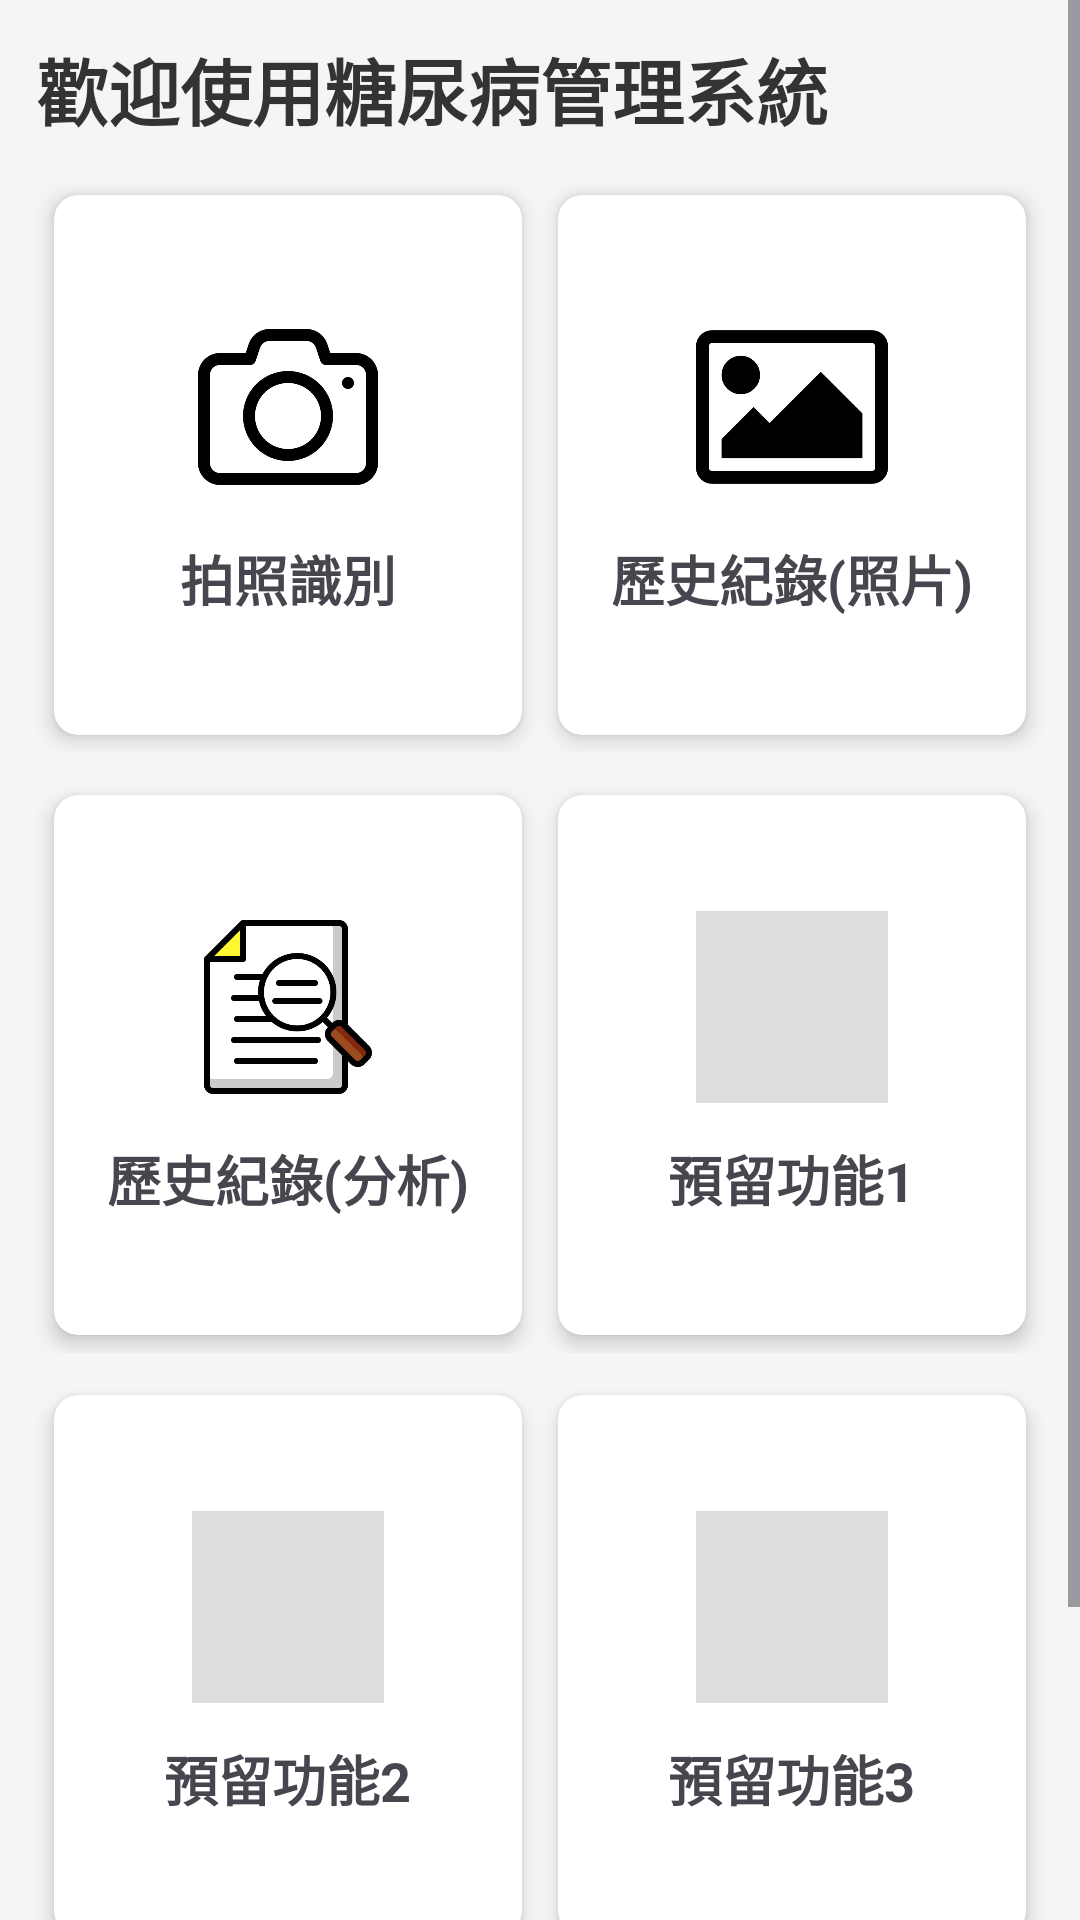

Named icons in this screenshot (1080x1920) and their bounding boxes, (x1, y1, x2, y2):
相機圖片: (198, 329, 378, 485)
